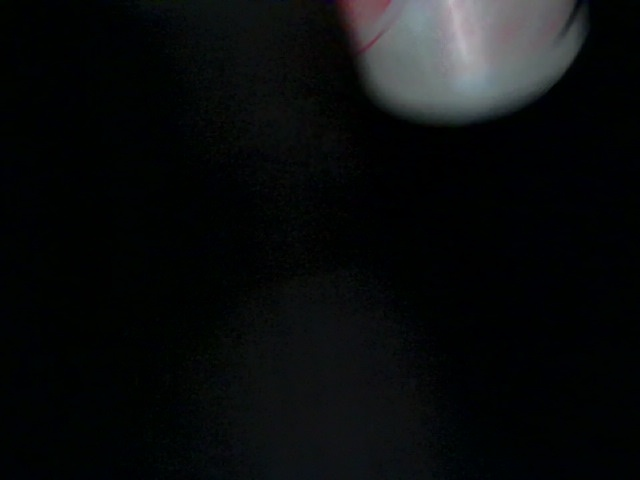CYLJ: (490, 193, 640, 474)
